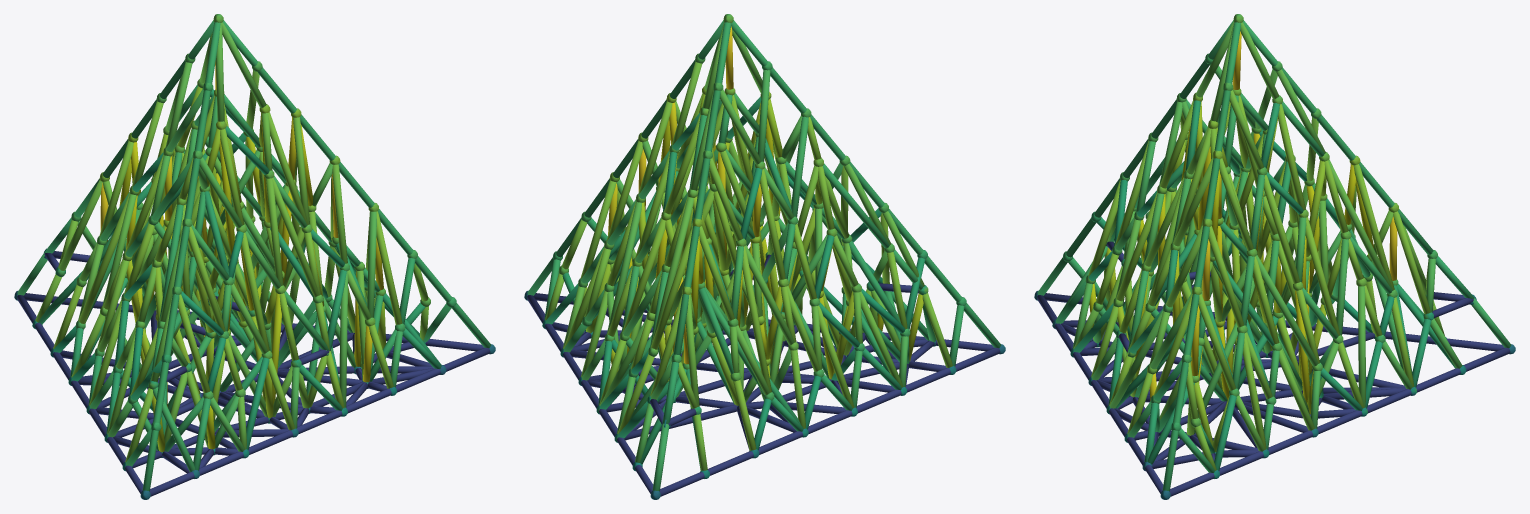
The model's file is tetrahedron_T5_S2.glb.
3 renders of one model, left to right at view 1: azimuth 30°, elevation 25°; view 2: azimuth 150°, elevation 25°; view 3: azimuth 270°, elevation 25°, orthographic.
Parts seen in each view (by area): view 1: tetrahedron; view 2: tetrahedron; view 3: tetrahedron.
Part boxes in pixels (x1,y1,x2,y2): tetrahedron: [14, 14, 495, 499]; tetrahedron: [524, 14, 1005, 499]; tetrahedron: [1034, 14, 1515, 499].
Size of the model in its own units: 118 by 99.64 by 118.
